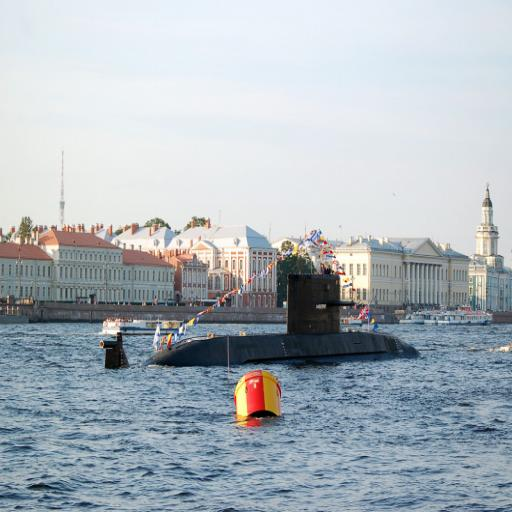submarine: (90, 272, 431, 369)
